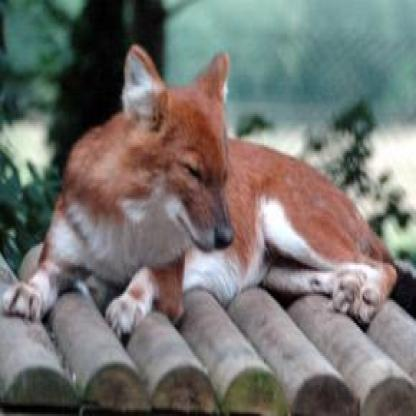dhole: (0, 36, 396, 342)
